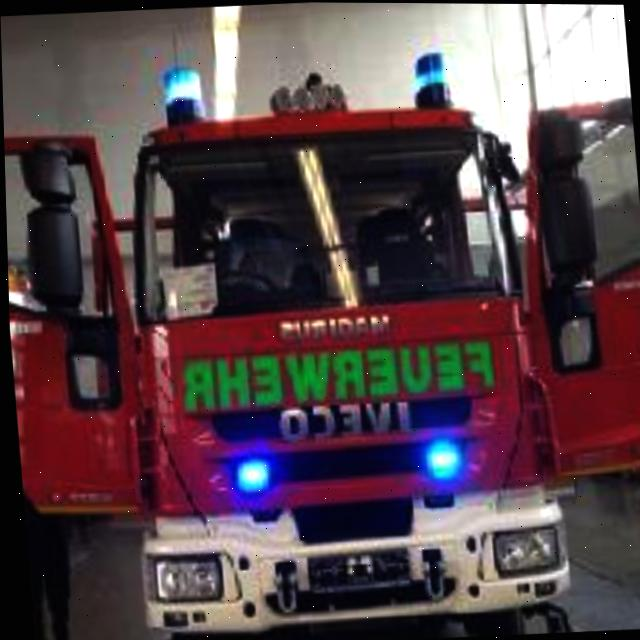emergency: (89, 28, 563, 640)
